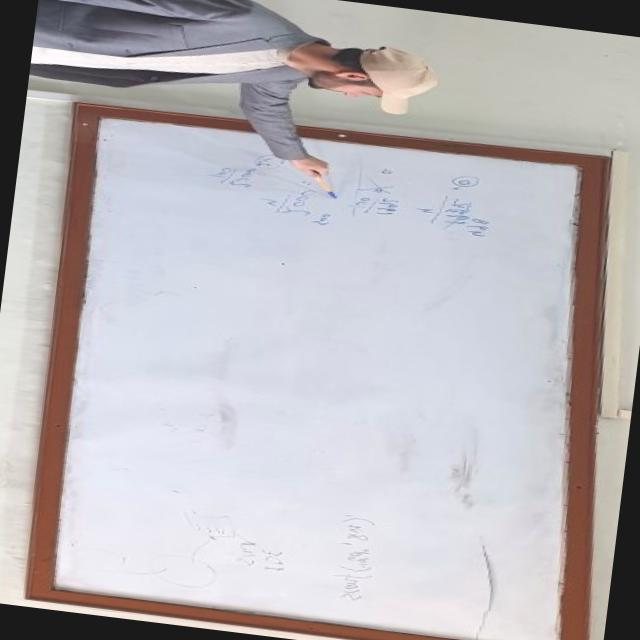Instructor: (27, 0, 462, 140)
White-board: (42, 107, 592, 640)
